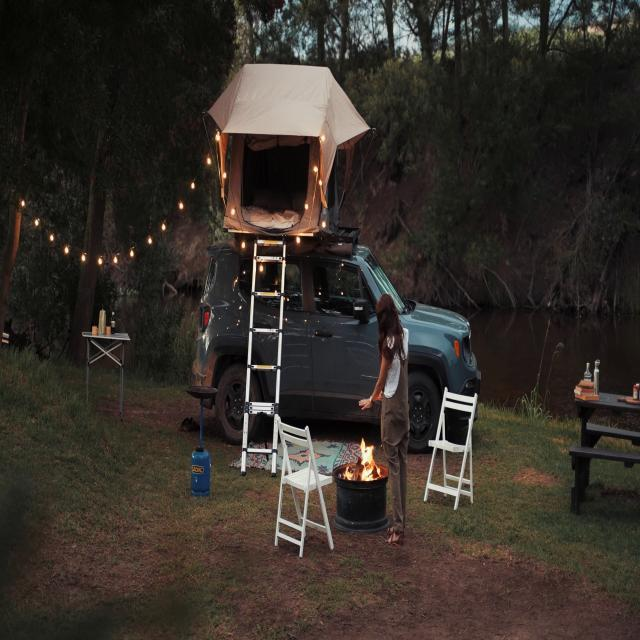Fire: (354, 433, 380, 482)
